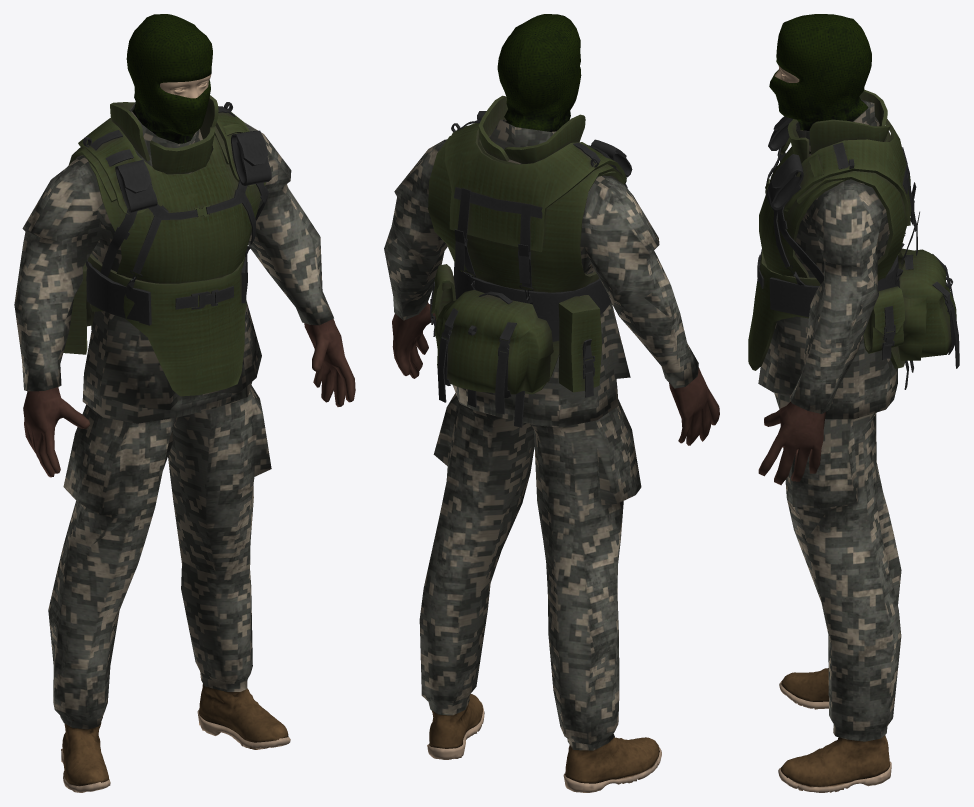
Rendered from asker_mixamo.fbx.
The picture shows the model from 3 angles, left to right: view 1: azimuth 30°, elevation 25°; view 2: azimuth 150°, elevation 25°; view 3: azimuth 270°, elevation 25°; orthographic projection.
Visible parts, largest first — view 1: Soldier; view 2: Soldier; view 3: Soldier.
Part boxes in pixels (box(x1,y1,x2,y2)): Soldier: box(14, 14, 355, 792); Soldier: box(384, 14, 719, 792); Soldier: box(748, 14, 959, 792).
Size of the model in its own units: 78.73 by 180 by 47.45.
Materials: 1 (1 with a texture image).
